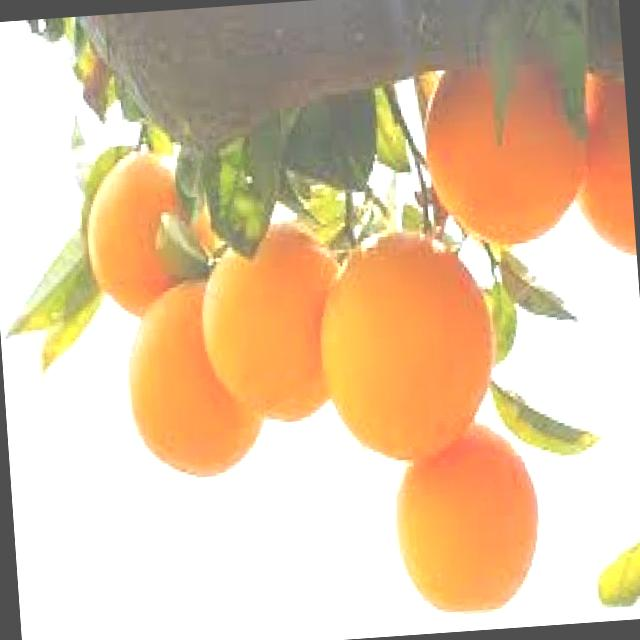Orange: (313, 222, 502, 465), (419, 54, 598, 250), (195, 212, 354, 427), (388, 414, 547, 616), (120, 272, 270, 482), (82, 144, 214, 318), (566, 60, 634, 262)
